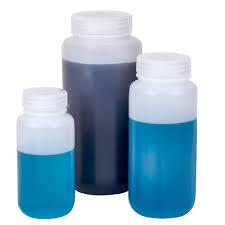Container for household chemicals: (60, 13, 139, 184), (132, 46, 207, 219), (4, 87, 85, 221)
